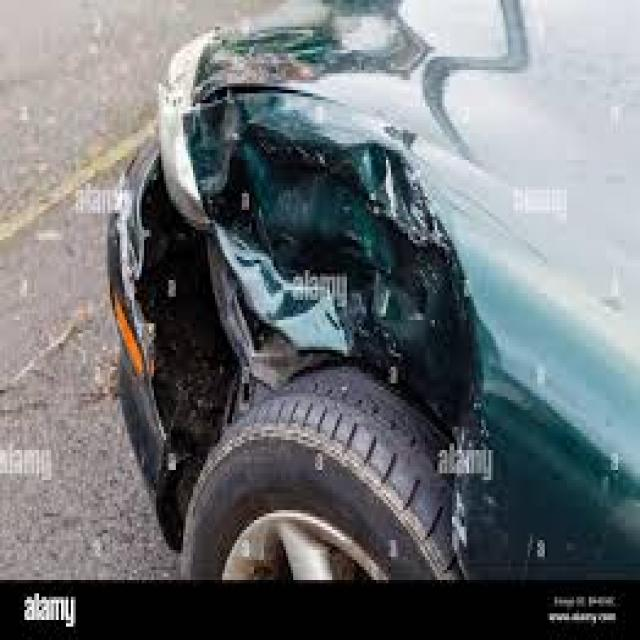moderate: (77, 35, 477, 563)
